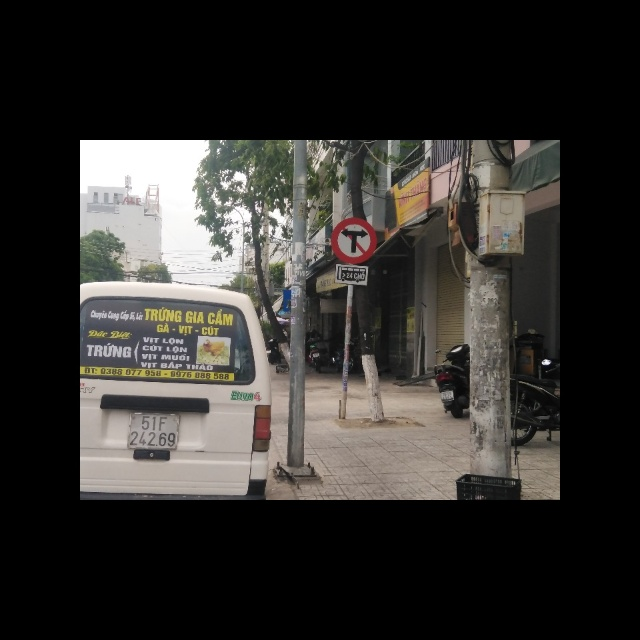Cấm rẽ trái và rẽ phải: (330, 216, 377, 262)
